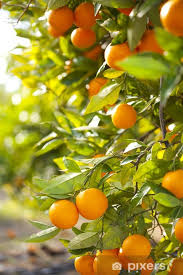orange: (73, 182, 109, 219), (104, 40, 138, 76), (47, 199, 79, 232), (121, 231, 154, 263), (89, 76, 118, 108), (160, 163, 183, 199), (93, 246, 121, 275), (44, 7, 75, 33), (71, 27, 96, 50), (112, 107, 138, 129)
